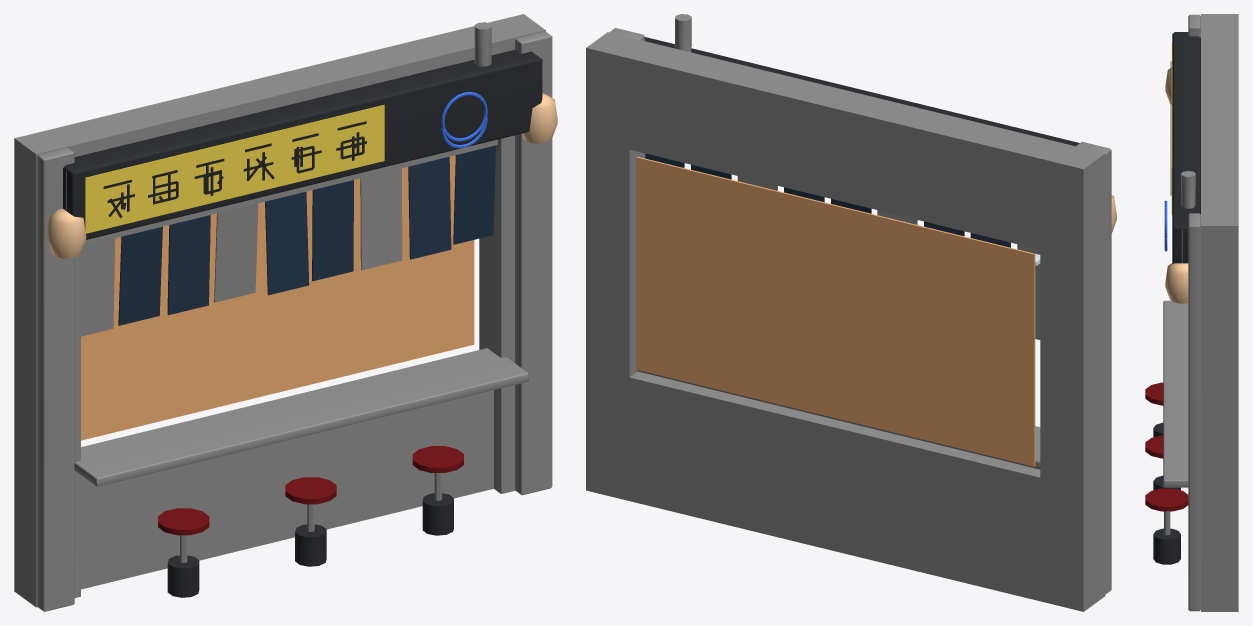
Rendered from Building_Facade_Concrete_Shop_Noodle.fbx.
The picture shows the model from 3 angles, left to right: view 1: azimuth 30°, elevation 25°; view 2: azimuth 150°, elevation 25°; view 3: azimuth 270°, elevation 25°; orthographic projection. The views are drawn at different scales.
Parts seen in each view (by area): view 1: Building_Facade_Concrete_Shop_Noodle_LOD0; view 2: Building_Facade_Concrete_Shop_Noodle_LOD0; view 3: Building_Facade_Concrete_Shop_Noodle_LOD0.
Part boxes in pixels (bbox=[...]): Building_Facade_Concrete_Shop_Noodle_LOD0: bbox=[14, 14, 557, 611]; Building_Facade_Concrete_Shop_Noodle_LOD0: bbox=[586, 14, 1116, 611]; Building_Facade_Concrete_Shop_Noodle_LOD0: bbox=[1145, 14, 1238, 611].
Size of what is drawn, in the model's own units: 4 by 3.6 by 0.7439.
